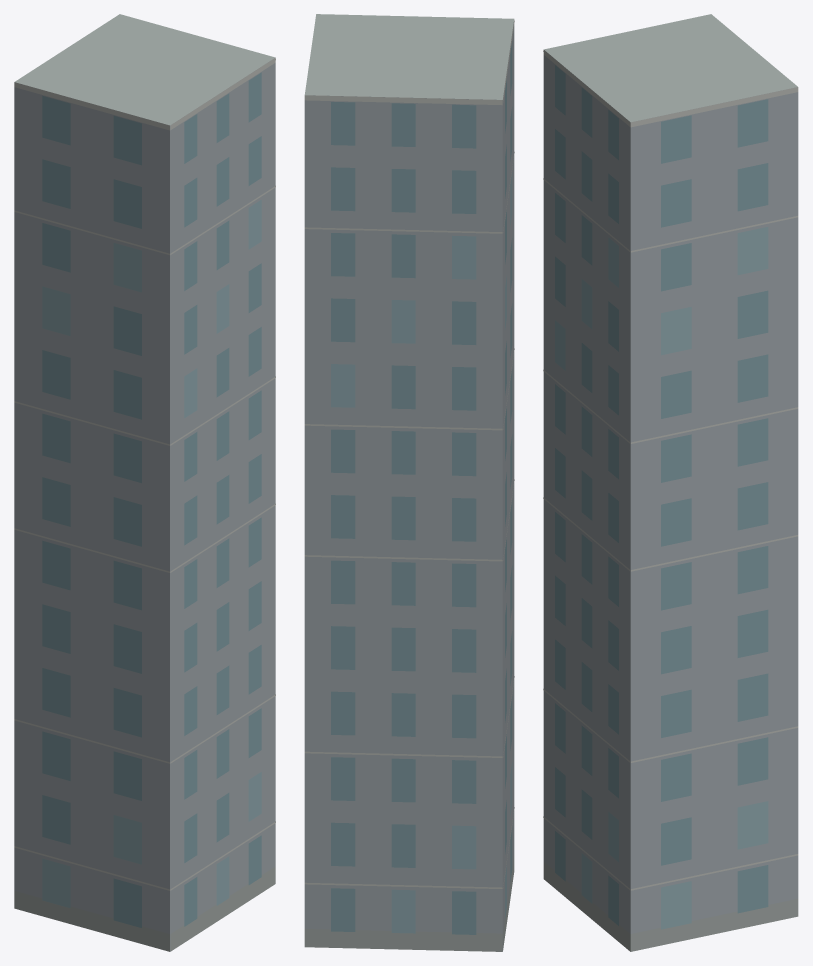
Rendered from survey-upis-32741951.glb.
3 views of the same model, side by side, from view 1: azimuth 30°, elevation 25°; view 2: azimuth 150°, elevation 25°; view 3: azimuth 270°, elevation 25° (orthographic). The views are drawn at different scales.
Parts seen in each view (by area): view 1: survey-upis-32741951.tmp; view 2: survey-upis-32741951.tmp; view 3: survey-upis-32741951.tmp.
Part boxes in pixels (x1,y1,x2,y2): survey-upis-32741951.tmp: [14, 14, 275, 951]; survey-upis-32741951.tmp: [304, 14, 514, 951]; survey-upis-32741951.tmp: [543, 14, 798, 951].
Size of the model in its own units: 11.13 by 39.65 by 11.05.
